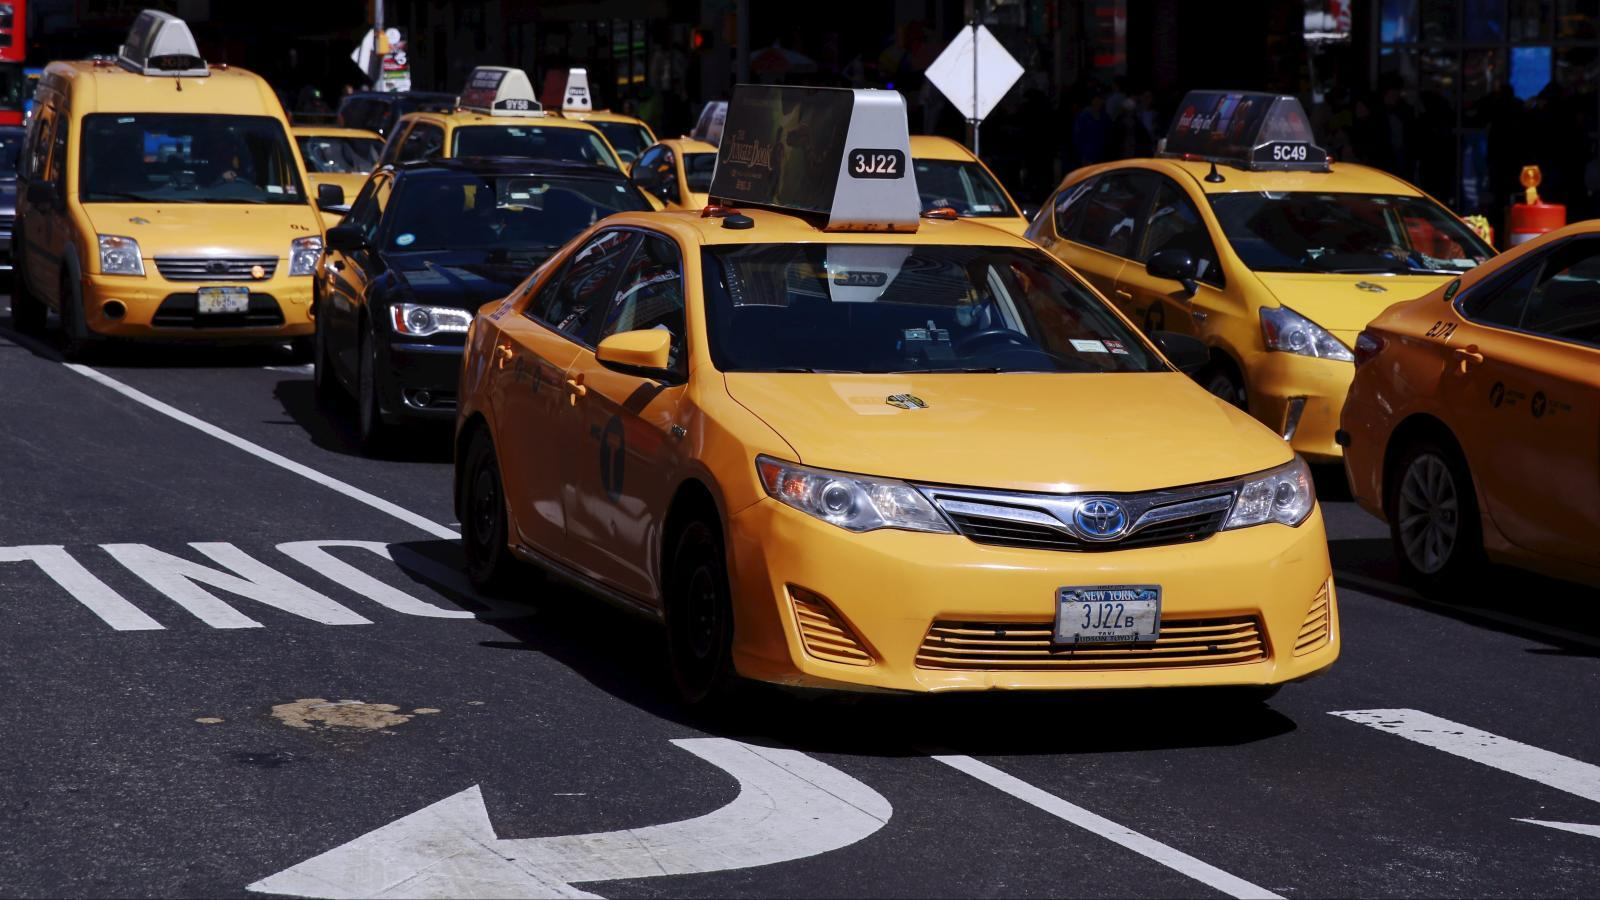taxi: (411, 203, 1351, 736)
